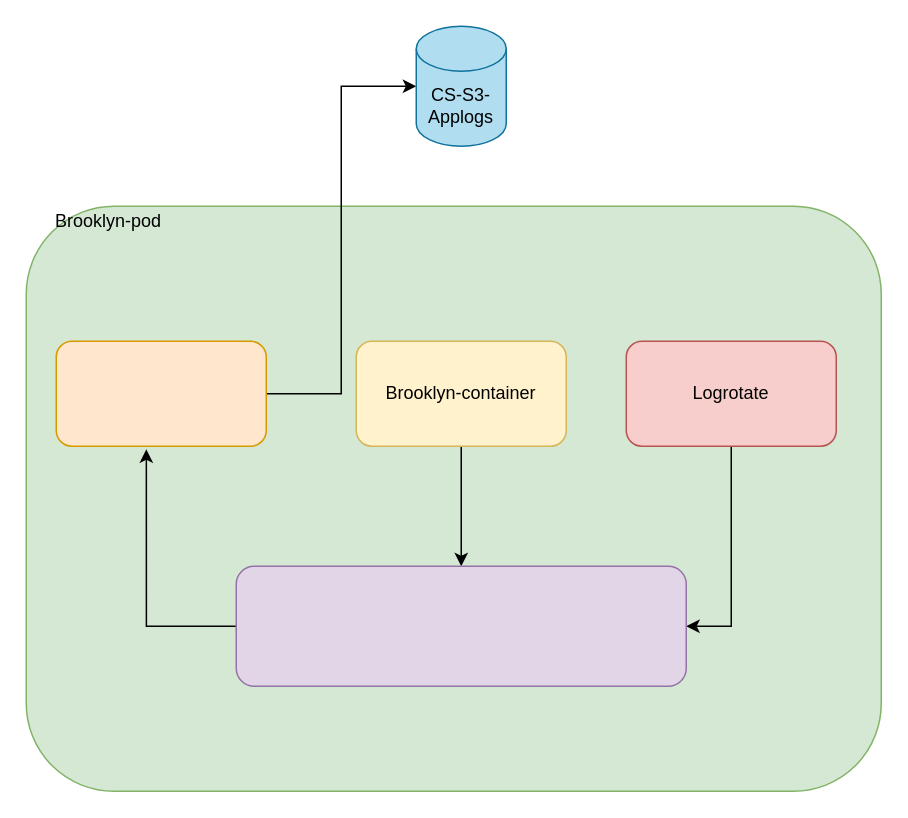
This 908x818 diagram has some shape labels left out. The shapes that lost their labels are listed below. From the top down, each one's box as (x1, y1, x2, y2) in pixels, then its label:
(55, 340, 266, 446): FluentD
(235, 565, 686, 686): var/log/containers
